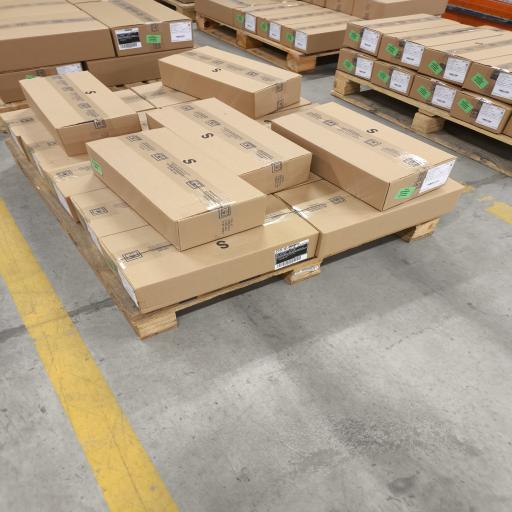pallet: (6, 138, 322, 339), (6, 138, 322, 339), (332, 71, 511, 176), (196, 13, 339, 73), (109, 79, 161, 91), (0, 100, 28, 113), (0, 100, 28, 113)
